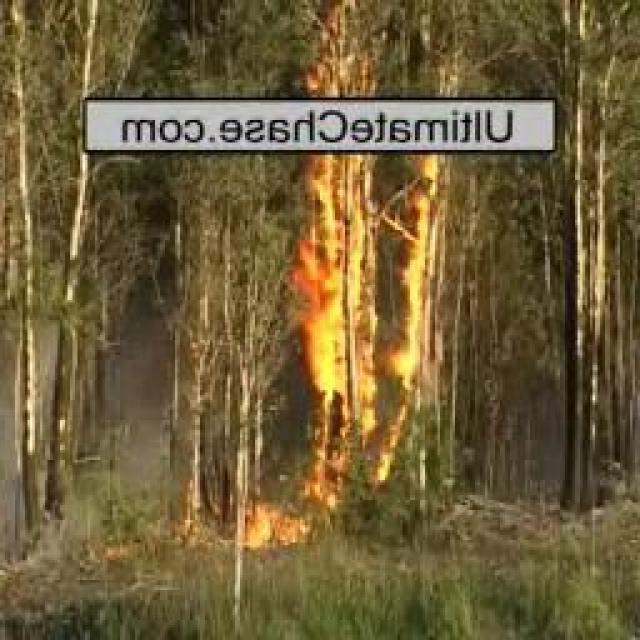Fire: (272, 155, 440, 488), (244, 502, 348, 548), (313, 16, 362, 97)
